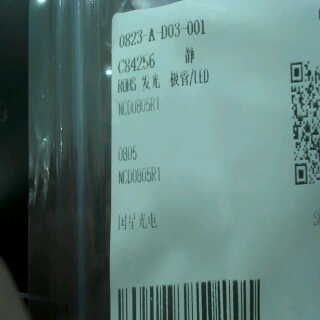LED: (140, 66, 214, 89)
